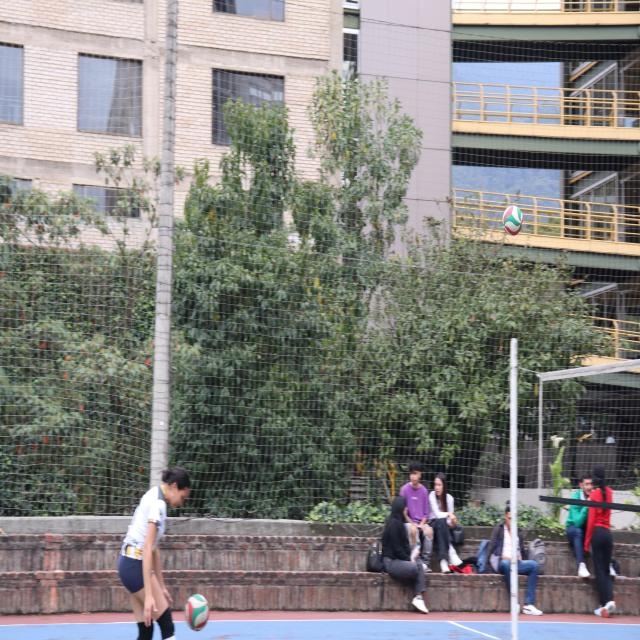volleyball: (184, 594, 210, 631), (503, 205, 523, 236)
